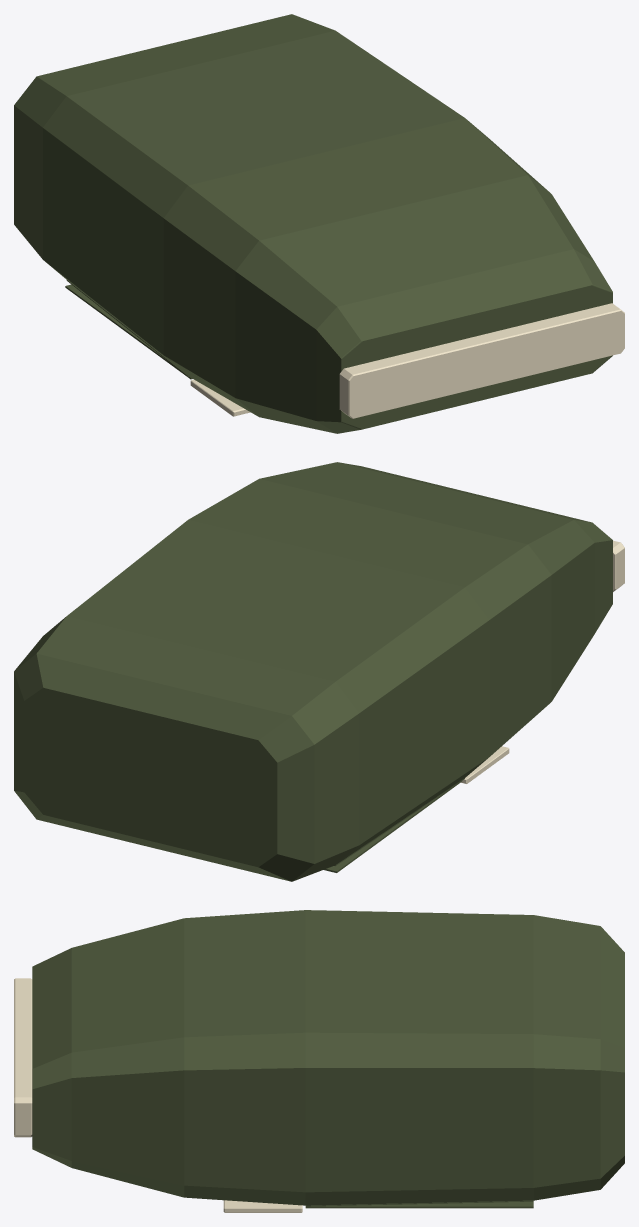
File: popcorn.glb
3 views of the same model, one above another, from view 1: azimuth 30°, elevation 25°; view 2: azimuth 150°, elevation 25°; view 3: azimuth 270°, elevation 25° (orthographic). The views are drawn at different scales.
Visible parts, largest first — view 1: popcorn; view 2: popcorn; view 3: popcorn.
Part boxes in pixels (bbox=[...]): popcorn: bbox=[14, 14, 624, 433]; popcorn: bbox=[14, 462, 624, 881]; popcorn: bbox=[14, 910, 624, 1212].
Bounding box in the file's own units: 0.1236 × 0.0776 × 0.2211.
